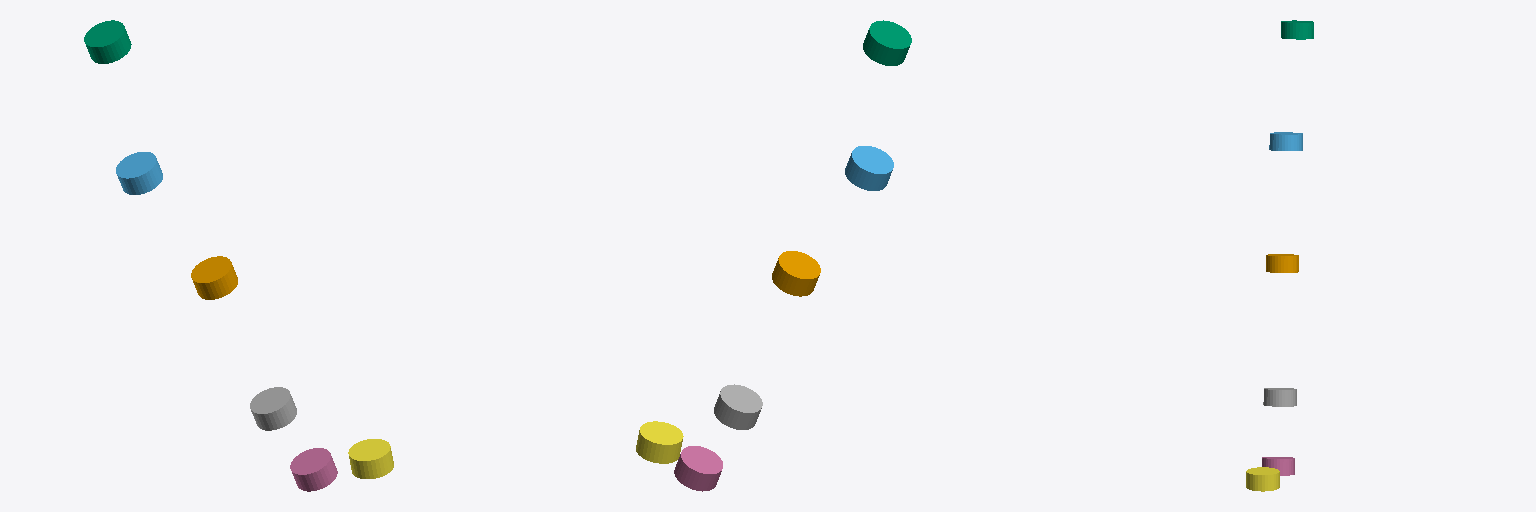
The robot description file, URDF, robot "hand":
<?xml version="1.0"?>
<robot name="hand">

    <!-- Base Link -->
    <link name="base_link">
        <inertial>
            <mass value="1.0" />
            <origin xyz="0 0 0" rpy="0 0 0"/>
            <inertia ixx="0.1" ixy="0" ixz="0" iyy="0.1" iyz="0" izz="0.1" />
        </inertial>
        <visual>
            <origin xyz="0.0 0.0 0" rpy="0.0 0.0 0.0"/>
            <geometry>
                <cylinder radius="0.0" length="0.0"/>
            </geometry>
        </visual>
    </link>

    <!-- Link 1 -->
    <link name="thumbp1_c_1">
        <inertial>
            <mass value="0.5" />
            <origin xyz="0 0 0" rpy="0 0 0"/>
            <inertia ixx="0.05" ixy="0" ixz="0" iyy="0.05" iyz="0" izz="0.05" />
        </inertial>
    </link>
    <link name="thumbp1_c_2">
        <inertial>
            <mass value="0.5" />
            <origin xyz="0 0 0" rpy="0 0 0"/>
            <inertia ixx="0.05" ixy="0" ixz="0" iyy="0.05" iyz="0" izz="0.05" />
        </inertial>
    </link>
    <link name="thumbp1_c_3">
        <inertial>
            <mass value="0.5" />
            <origin xyz="0 0 0" rpy="0 0 0"/>
            <inertia ixx="0.05" ixy="0" ixz="0" iyy="0.05" iyz="0" izz="0.05" />
        </inertial>
        <visual>
            <origin xyz="0.0 0.0 0.0" rpy="0.0 0.0 0.0"/>
            <geometry>
                <cylinder radius="0.005" length="0.005"/>
            </geometry>
        </visual>
    </link>

    <!-- Joint 1 -->
    <joint name="joint1_1" type="fixed">
        <parent link="base_link"/>
        <child link="thumbp1_c_1"/>
        <origin xyz="-0.0122179 0.0052 -0.0473596" rpy="0 -0.191986 0"/>
        <axis xyz="0 0 0"/>
        <limit lower="-3.14" upper="3.14" effort="10" velocity="1"/>
    </joint>
    <joint name="joint1_2" type="fixed">
        <parent link="thumbp1_c_1"/>
        <child link="thumbp1_c_2"/>
        <origin xyz="0 0 0" rpy="0 0 -0.083339472"/>
        <axis xyz="0 0 0"/>
        <limit lower="-3.14" upper="3.14" effort="10" velocity="1"/>
    </joint>
    <joint name="joint1_3" type="revolute">
        <parent link="thumbp1_c_2"/>
        <child link="thumbp1_c_3"/>
        <origin xyz="0 0 0" rpy="0 0 0"/>
        <!-- -0.872665 0 0 -->
        <axis xyz="1 0 0"/>
        <limit lower="-0.785" upper="0" effort="10" velocity="1"/>
    </joint>

    <!-- Link 1 -->
    <link name="thumbp2_c_1">
        <inertial>
            <mass value="0.5" />
            <origin xyz="0 0 0" rpy="0 0 0"/>
            <inertia ixx="0.05" ixy="0" ixz="0" iyy="0.05" iyz="0" izz="0.05" />
        </inertial>
    </link>
    <link name="thumbp2_c_2">
        <inertial>
            <mass value="0.5" />
            <origin xyz="0 0 0" rpy="0 0 0"/>
            <inertia ixx="0.05" ixy="0" ixz="0" iyy="0.05" iyz="0" izz="0.05" />
        </inertial>
    </link>
    <link name="thumbp2_c_3">
        <inertial>
            <mass value="0.5" />
            <origin xyz="0 0 0" rpy="0 0 0"/>
            <inertia ixx="0.05" ixy="0" ixz="0" iyy="0.05" iyz="0" izz="0.05" />
        </inertial>
        <visual>
            <origin xyz="0.0 0.0 0.0" rpy="0.0 0.0 0.0"/>
            <geometry>
                <cylinder radius="0.005" length="0.005"/>
            </geometry>
        </visual>
    </link>

    <!-- Joint 2 -->
    <joint name="joint2_1" type="fixed">
        <parent link="thumbp1_c_3"/>
        <child link="thumbp2_c_1"/>
        <origin xyz="-0.0131755 0.00349373 0.00086368" rpy="0 0 0"/>
        <axis xyz="0 0 0"/>
        <limit lower="-3.14" upper="3.14" effort="10" velocity="1"/>
    </joint>
    <joint name="joint2_2" type="fixed">
        <parent link="thumbp2_c_1"/>
        <child link="thumbp2_c_2"/>
        <origin xyz="0 0 0" rpy="0 -0.174533 0"/>
        <axis xyz="0 0 0"/>
        <limit lower="-3.14" upper="3.14" effort="10" velocity="1"/>
    </joint>
    <joint name="joint2_3" type="revolute">
        <parent link="thumbp2_c_2"/>
        <child link="thumbp2_c_3"/>
        <origin xyz="0 0 0" rpy="0 0 0"/>
        <!-- 0 0 -0.349066 -->
        <axis xyz="0 0 1"/>
        <limit lower="-0.88" upper="0.88" effort="10" velocity="1"/>
    </joint>

    <!-- Link 2 -->
    <link name="thumbp3_c">
        <inertial>
            <mass value="0.5" />
            <origin xyz="0 0 0" rpy="0 0 0"/>
            <inertia ixx="0.05" ixy="0" ixz="0" iyy="0.05" iyz="0" izz="0.05" />
        </inertial>
        <visual>
            <origin xyz="0.0 0.0 0.0" rpy="0.0 0.0 0.0"/>
            <geometry>
                <cylinder radius="0.005" length="0.005"/>
            </geometry>
        </visual>
    </link>

    <!-- Joint 3 -->
    <joint name="joint3" type="revolute">
        <parent link="thumbp2_c_3"/>
        <child link="thumbp3_c"/>
        <origin xyz="-0.0034515 0 0.0204197" rpy="0 0 0"/>
        <!-- 0 -0.523599 0 -->
        <axis xyz="0 1 0"/>
        <limit lower="-0.70" upper="0.27" effort="10" velocity="1"/>
    </joint>

    <!-- Link 4 -->
    <link name="thumbp4_c">
        <inertial>
            <mass value="0.5" />
            <origin xyz="0 0 0" rpy="0 0 0"/>
            <inertia ixx="0.05" ixy="0" ixz="0" iyy="0.05" iyz="0" izz="0.05" />
        </inertial>
        <visual>
            <origin xyz="0.0 0.0 0.0" rpy="0.0 0.0 0.0"/>
            <geometry>
                <cylinder radius="0.005" length="0.005"/>
            </geometry>
        </visual>
    </link>

    <!-- Joint 4 -->
    <joint name="joint4" type="revolute">
        <parent link="thumbp3_c"/>
        <child link="thumbp4_c"/>
        <origin xyz="-0.0012 0 0.040" rpy="0 0 0"/>
        <!-- 0 1.22173 0 -->
        <axis xyz="0 1 0"/>
        <limit lower="-0" upper="1.57" effort="10" velocity="1"/>
    </joint>

    <!-- Link 5 -->
    <link name="thumbp5_c">
        <inertial>
            <mass value="0.5" />
            <origin xyz="0 0 0" rpy="0 0 0"/>
            <inertia ixx="0.05" ixy="0" ixz="0" iyy="0.05" iyz="0" izz="0.05" />
        </inertial>
        <visual>
            <origin xyz="0.0 0.0 0.0" rpy="0.0 0.0 0.0"/>
            <geometry>
                <cylinder radius="0.005" length="0.005"/>
            </geometry>
        </visual>
    </link>

    <!-- Joint 5 -->
    <joint name="joint5" type="revolute">
        <parent link="thumbp4_c"/>
        <child link="thumbp5_c"/>
        <origin xyz="-0.0072 0 0.036" rpy="0 0 0"/>
        <!-- 0 0.785398 0 -->
        <axis xyz="0 1 0"/>
        <limit lower="-0.90" upper="1.22" effort="10" velocity="1"/>
    </joint>

    <!-- Link 6 -->
    <link name="thumbp6_c">
        <inertial>
            <mass value="0.5" />
            <origin xyz="0 0 0" rpy="0 0 0"/>
            <inertia ixx="0.05" ixy="0" ixz="0" iyy="0.05" iyz="0" izz="0.05" />
        </inertial>
        <visual>
            <origin xyz="0.0 0.0 0.0" rpy="0.0 0.0 0.0"/>
            <geometry>
                <cylinder radius="0.005" length="0.005"/>
            </geometry>
        </visual>
    </link>

    <!-- Joint 6 -->
    <joint name="joint6" type="fixed">
        <parent link="thumbp5_c"/>
        <child link="thumbp6_c"/>
        <origin xyz="0.00570894 0.003393 0.0339805" rpy="0 0 0"/>
        <axis xyz="0 0 0"/>
        <limit lower="-3.14" upper="3.14" effort="10" velocity="1"/>
    </joint>
</robot>

--- Facts derived from the render (not from the file) ---
Views: 3 orthographic renders of the robot side by side, from view 1: azimuth 30°, elevation 25°; view 2: azimuth 150°, elevation 25°; view 3: azimuth 270°, elevation 25°.
Model hand with 11 links and 10 joints (5 revolute, 5 fixed), rooted at base_link, posed all joints at 0.
Links seen in each view (by area): view 1: thumbp2_c_3, thumbp3_c, thumbp4_c, thumbp5_c, thumbp6_c, thumbp1_c_3; view 2: thumbp2_c_3, thumbp4_c, thumbp5_c, thumbp3_c, thumbp6_c, thumbp1_c_3; view 3: thumbp1_c_3, thumbp5_c, thumbp3_c, thumbp4_c, thumbp6_c.
Boxes of the visible links, left/top/right/bottom form: thumbp2_c_3: left=290, top=448, right=337, bottom=491; thumbp3_c: left=250, top=387, right=296, bottom=430; thumbp4_c: left=191, top=256, right=237, bottom=299; thumbp5_c: left=116, top=152, right=162, bottom=194; thumbp6_c: left=84, top=20, right=131, bottom=63; thumbp1_c_3: left=348, top=439, right=393, bottom=478; thumbp2_c_3: left=674, top=446, right=722, bottom=491; thumbp4_c: left=772, top=251, right=820, bottom=296; thumbp5_c: left=845, top=146, right=893, bottom=190; thumbp3_c: left=714, top=384, right=762, bottom=429; thumbp6_c: left=863, top=20, right=911, bottom=65; thumbp1_c_3: left=636, top=421, right=683, bottom=463; thumbp1_c_3: left=1246, top=467, right=1279, bottom=491; thumbp5_c: left=1269, top=132, right=1302, bottom=150; thumbp3_c: left=1263, top=388, right=1296, bottom=406; thumbp4_c: left=1266, top=254, right=1298, bottom=272; thumbp6_c: left=1281, top=20, right=1313, bottom=39.
Bounding box of the posed robot: 0.0826 × 0.0206 × 0.1279 m (x, y, z).
Geometry: primitives only (box / cylinder / sphere), no mesh files.
